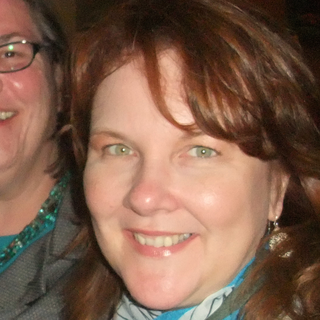eye: (169, 141, 225, 166), (94, 139, 141, 165), (1, 45, 25, 65)
